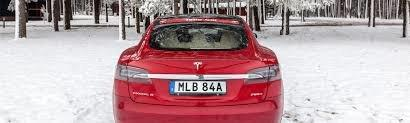license-plates: (170, 81, 226, 94)
